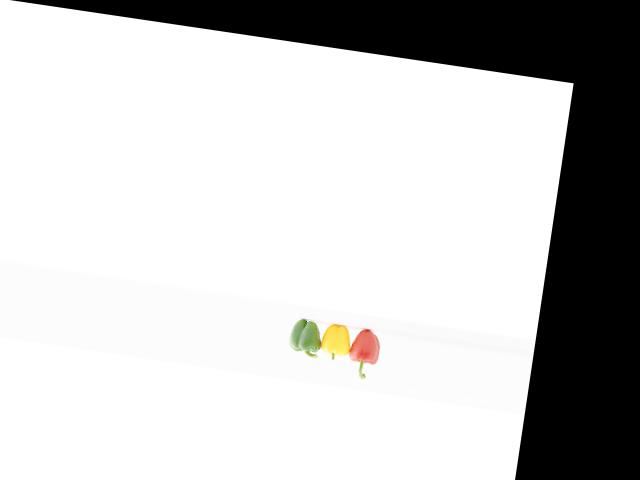bell_pepper: (342, 321, 391, 385)
